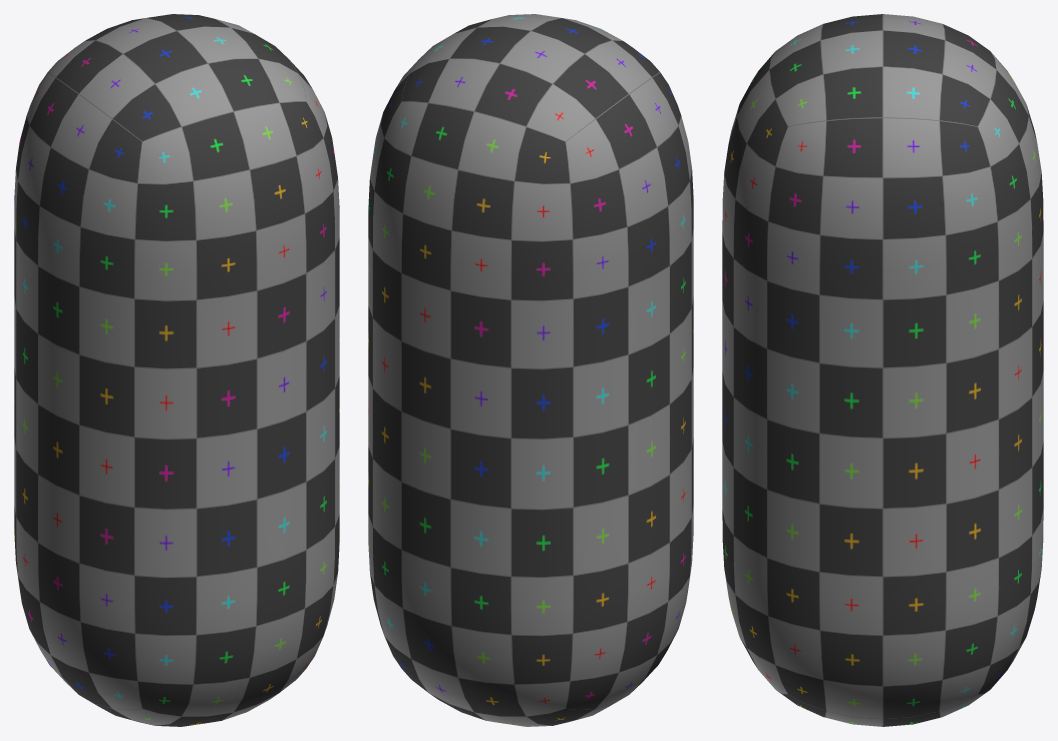
The model's file is fingertip.glb.
The picture shows the model from 3 angles, left to right: view 1: azimuth 30°, elevation 25°; view 2: azimuth 150°, elevation 25°; view 3: azimuth 270°, elevation 25°; orthographic projection.
Parts seen in each view (by area): view 1: export_mesh; view 2: export_mesh; view 3: export_mesh.
Part boxes in pixels (x1,y1,x2,y2): export_mesh: (14,14,339,726); export_mesh: (368,14,693,726); export_mesh: (722,14,1043,726).
Bounding box in the file's own units: 0.8203 × 1.92 × 0.8203.
1 material, 1 textured.
